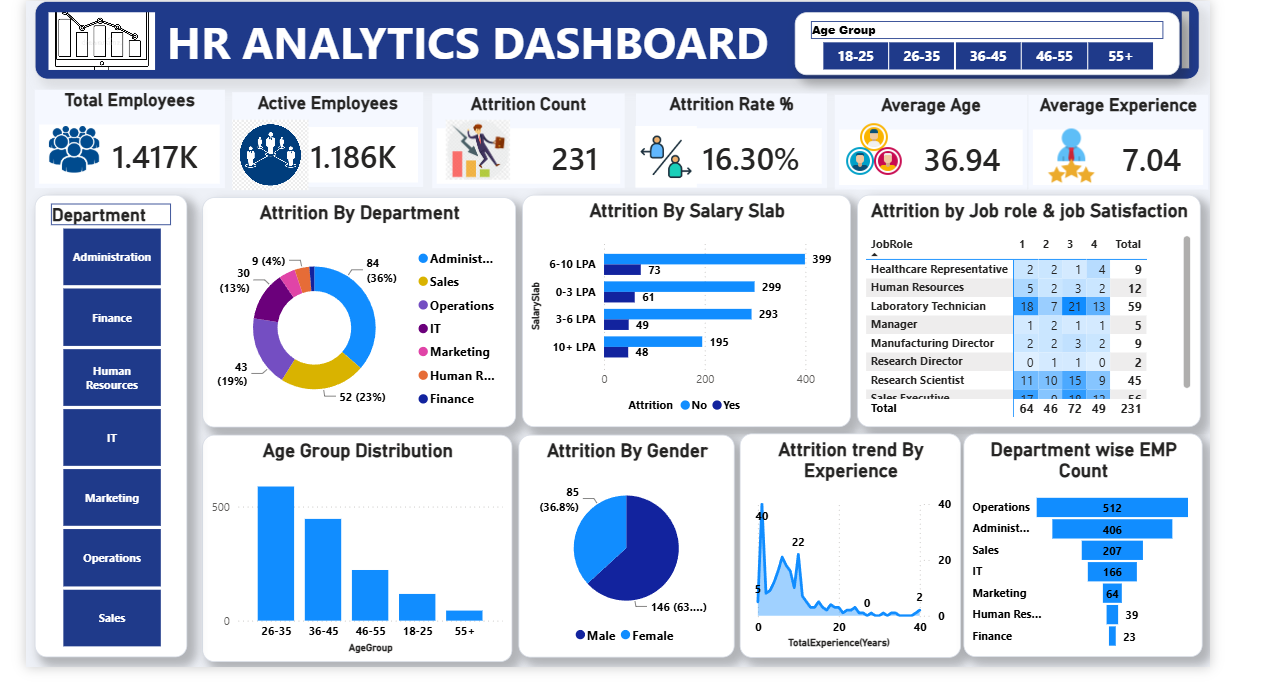

The page's visual inventory and layout, read from the dashboard file:
{"tool":"powerbi","page":{"name":"HR- Attrition_Analysis","canvas":[1280,720],"ordinal":0},"visuals":[{"type":"textbox","box":[10,0,1259,85],"z":0},{"type":"image","box":[24.5,12.2,114.9,62.4],"z":1000},{"type":"cardVisual","title":"Total Employees","fields":{"Data":["CountNonNull(HR_Analytics-4 (1).EmpID)"]},"box":[9.5,95.9,205.4,106.8],"z":2000},{"type":"cardVisual","title":"Active Employees","fields":{"Data":["CountNonNull(HR_Analytics-4 (1).EmployeeCount)"]},"box":[223,98.6,206.8,102.7],"z":3000},{"type":"cardVisual","title":"Average Experience","fields":{"Data":["Avg(HR_Analytics-4 (1).YearsatCompany)"]},"box":[1083.8,101.4,194.6,102.7],"z":4000},{"type":"cardVisual","title":"Average Age","fields":{"Data":["Avg(HR_Analytics-4 (1).Age)"]},"box":[874.3,101.4,208.1,102.7],"z":5000},{"type":"cardVisual","title":"Attrition Rate % ","fields":{"Data":["HR_Analytics-4 (1).Attrition Rate %"]},"box":[659.5,100,206.8,102.7],"z":6000},{"type":"cardVisual","title":"Attrition Count","fields":{"Data":["Sum(HR_Analytics-4 (1).Attrition Count)"]},"box":[439.2,100,208.1,102.7],"z":7000},{"type":"image","box":[0,135.1,104.1,50],"z":8000},{"type":"image","box":[223,128.4,82.4,75.7],"z":9000},{"type":"image","box":[433.8,128.4,109.5,64.9],"z":10000},{"type":"image","box":[650,135.1,83.8,66.2],"z":11000},{"type":"image","box":[874.3,125.7,85.1,68.9],"z":12000},{"type":"image","box":[1079.7,132.4,101.4,68.9],"z":13000},{"type":"donutChart","title":"Attrition By Department","fields":{"Category":["HR_Analytics-4 (1).Department"],"Y":["Sum(HR_Analytics-4 (1).Attrition Count)"]},"box":[190.5,212.2,339.2,248.6],"z":14000},{"type":"clusteredBarChart","title":"Attrition By Salary Slab","fields":{"Category":["HR_Analytics-4 (1).SalarySlab"],"Y":["CountNonNull(HR_Analytics-4 (1).EmpID)"],"Series":["HR_Analytics-4 (1).Attrition"]},"box":[537,209,355,251],"z":15000},{"type":"pivotTable","title":"Attrition by Job role & job Satisfaction","fields":{"Rows":["HR_Analytics-4 (1).JobRole"],"Values":["Sum(HR_Analytics-4 (1).Attrition Count)"],"Columns":["HR_Analytics-4 (1).JobSatisfaction"]},"box":[898,209,371,251],"z":16000},{"type":"columnChart","title":"Age Group Distribution","fields":{"Category":["HR_Analytics-4 (1).AgeGroup"],"Y":["Sum(HR_Analytics-4 (1).EmployeeCount)"]},"box":[190.5,468.9,335.1,245.9],"z":17000},{"type":"pieChart","title":"Attrition By Gender","fields":{"Category":["HR_Analytics-4 (1).Gender"],"Series":["HR_Analytics-4 (1).Attrition Count"],"Y":["Sum(HR_Analytics-4 (1).Attrition Count)"]},"box":[532.4,468.9,233.8,240.5],"z":18000},{"type":"areaChart","title":"Attrition  trend By Experience","fields":{"Category":["HR_Analytics-4 (1).TotalExperience(Years)"],"Y2":["Sum(HR_Analytics-4 (1).Attrition Count)"]},"box":[771.6,467.6,239,242],"z":19000},{"type":"funnel","title":"Department wise EMP Count","fields":{"Category":["HR_Analytics-4 (1).Department"],"Y":["CountNonNull(HR_Analytics-4 (1).EmpID)"]},"box":[1013.5,467.6,258.1,241.9],"z":20000},{"type":"slicer","fields":{"Values":["HR_Analytics-4 (1).Department"]},"box":[9.5,209,165,500],"z":21000},{"type":"slicer","title":"AGE Group","fields":{"Values":["HR_Analytics-4 (1).AgeGroup"]},"box":[831.1,12.2,416.2,68],"z":22000}]}

Visuals, with their boxes in screenshot pixels (x1, y1, x2, y2), scaled from the page's 1280x720 canvas onto the 1266x692 screenshot:
textbox: region(10, 0, 1255, 82)
image: region(24, 12, 138, 72)
"Total Employees" cardVisual: region(9, 92, 213, 195)
"Active Employees" cardVisual: region(221, 95, 425, 193)
"Average Experience" cardVisual: region(1072, 97, 1264, 196)
"Average Age" cardVisual: region(865, 97, 1071, 196)
"Attrition Rate % " cardVisual: region(652, 96, 857, 195)
"Attrition Count" cardVisual: region(434, 96, 640, 195)
image: region(0, 130, 103, 178)
image: region(221, 123, 302, 196)
image: region(429, 123, 537, 186)
image: region(643, 130, 726, 193)
image: region(865, 121, 949, 187)
image: region(1068, 127, 1168, 193)
"Attrition By Department" donutChart: region(188, 204, 524, 443)
"Attrition By Salary Slab" clusteredBarChart: region(531, 201, 882, 442)
"Attrition by Job role & job Satisfaction" pivotTable: region(888, 201, 1255, 442)
"Age Group Distribution" columnChart: region(188, 451, 520, 687)
"Attrition By Gender" pieChart: region(527, 451, 758, 682)
"Attrition  trend By Experience" areaChart: region(763, 449, 1000, 682)
"Department wise EMP Count" funnel: region(1002, 449, 1258, 682)
slicer - HR_Analytics-4 (1).Department: region(9, 201, 173, 681)
"AGE Group" slicer: region(822, 12, 1234, 77)
